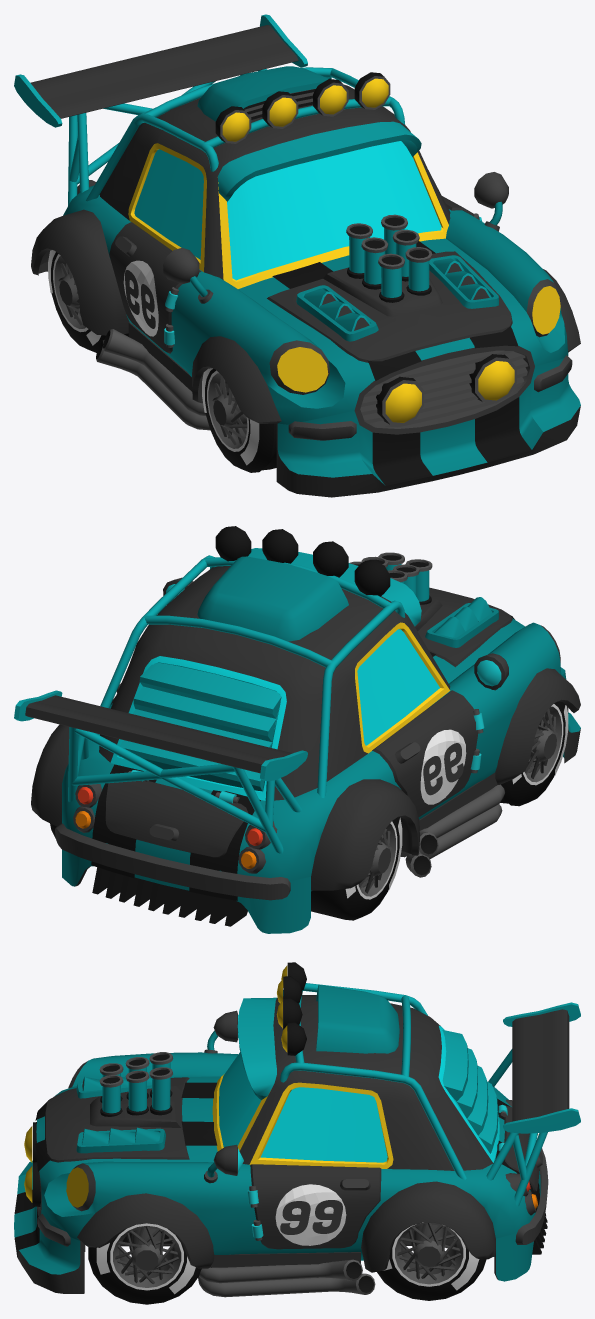
The model's file is VEH16-D.fbx.
3 views of the same model, one above another, from view 1: azimuth 30°, elevation 25°; view 2: azimuth 150°, elevation 25°; view 3: azimuth 270°, elevation 25° (orthographic). The views are drawn at different scales.
Visible parts, largest first — view 1: VEH16_D, V16D_Wheel_FR, V16D_Wheel_BR; view 2: VEH16_D, V16D_Wheel_BR, V16D_Wheel_FR; view 3: VEH16_D, V16D_Wheel_FL, V16D_Wheel_BL.
Boxes of the visible parts, x1,y1,x2,y2 form: VEH16_D: (14,14,580,497); V16D_Wheel_FR: (202,368,276,472); V16D_Wheel_BR: (48,250,128,352); VEH16_D: (14,526,580,933); V16D_Wheel_BR: (311,817,402,920); V16D_Wheel_FR: (500,701,568,806); VEH16_D: (14,962,580,1297); V16D_Wheel_FL: (88,1223,201,1304); V16D_Wheel_BL: (377,1222,486,1300).
Bounding box in the file's own units: 264 × 213 × 430.
1 material, 1 textured.
